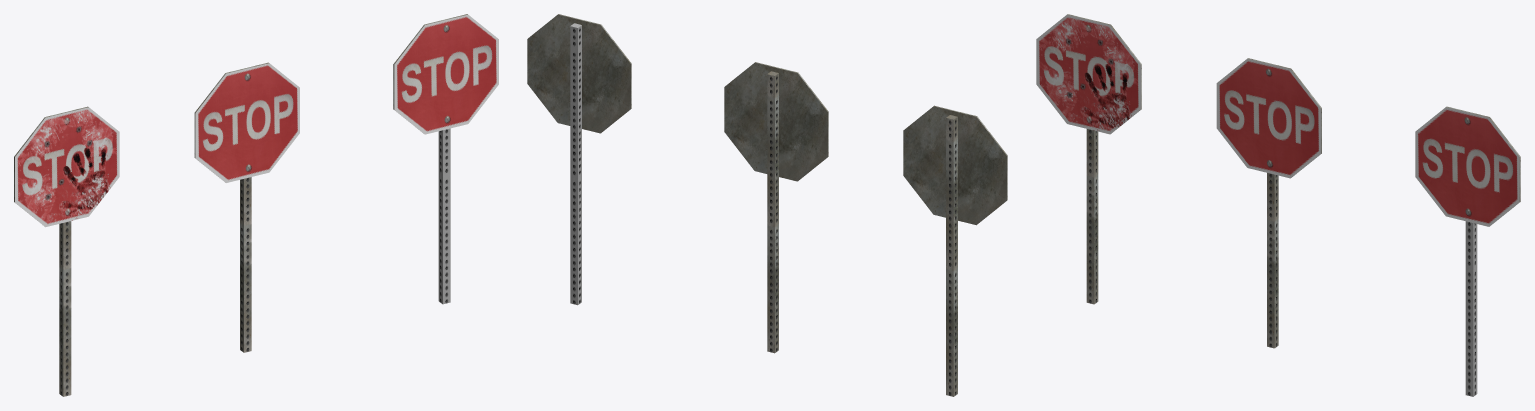
The model's file is low_poly_stop_signs.glb.
The picture shows the model from 3 angles, left to right: view 1: azimuth 30°, elevation 25°; view 2: azimuth 150°, elevation 25°; view 3: azimuth 330°, elevation 25°; orthographic projection.
Parts seen in each view (by area): view 1: Cylinder_3, Cylinder_2, Cylinder, Cube_2, Cube_3, Cube; view 2: Cylinder_3, Cylinder, Cylinder_2, Cube, Cube_2, Cube_3; view 3: Cylinder_3, Cylinder_2, Cylinder, Cube_2, Cube_3, Cube.
Boxes of the visible parts, x1=… form: Cylinder_3: x1=393, y1=14, x2=498, y2=134; Cylinder_2: x1=14, y1=106, x2=119, y2=227; Cylinder: x1=194, y1=62, x2=299, y2=182; Cube_2: x1=59, y1=221, x2=71, y2=396; Cube_3: x1=438, y1=128, x2=450, y2=304; Cube: x1=240, y1=177, x2=251, y2=352; Cylinder_3: x1=527, y1=14, x2=631, y2=133; Cylinder: x1=724, y1=62, x2=828, y2=181; Cylinder_2: x1=903, y1=105, x2=1007, y2=225; Cube: x1=767, y1=71, x2=778, y2=353; Cube_2: x1=946, y1=115, x2=957, y2=396; Cube_3: x1=570, y1=23, x2=581, y2=305; Cylinder_3: x1=1415, y1=106, x2=1520, y2=226; Cylinder_2: x1=1036, y1=14, x2=1141, y2=134; Cylinder: x1=1216, y1=58, x2=1321, y2=178; Cube_2: x1=1086, y1=129, x2=1098, y2=304; Cube_3: x1=1465, y1=221, x2=1477, y2=396; Cube: x1=1267, y1=173, x2=1278, y2=348.
Bounding box in the file's own units: 4.27 × 2.4 × 0.0759.
3 materials, 3 textured.
